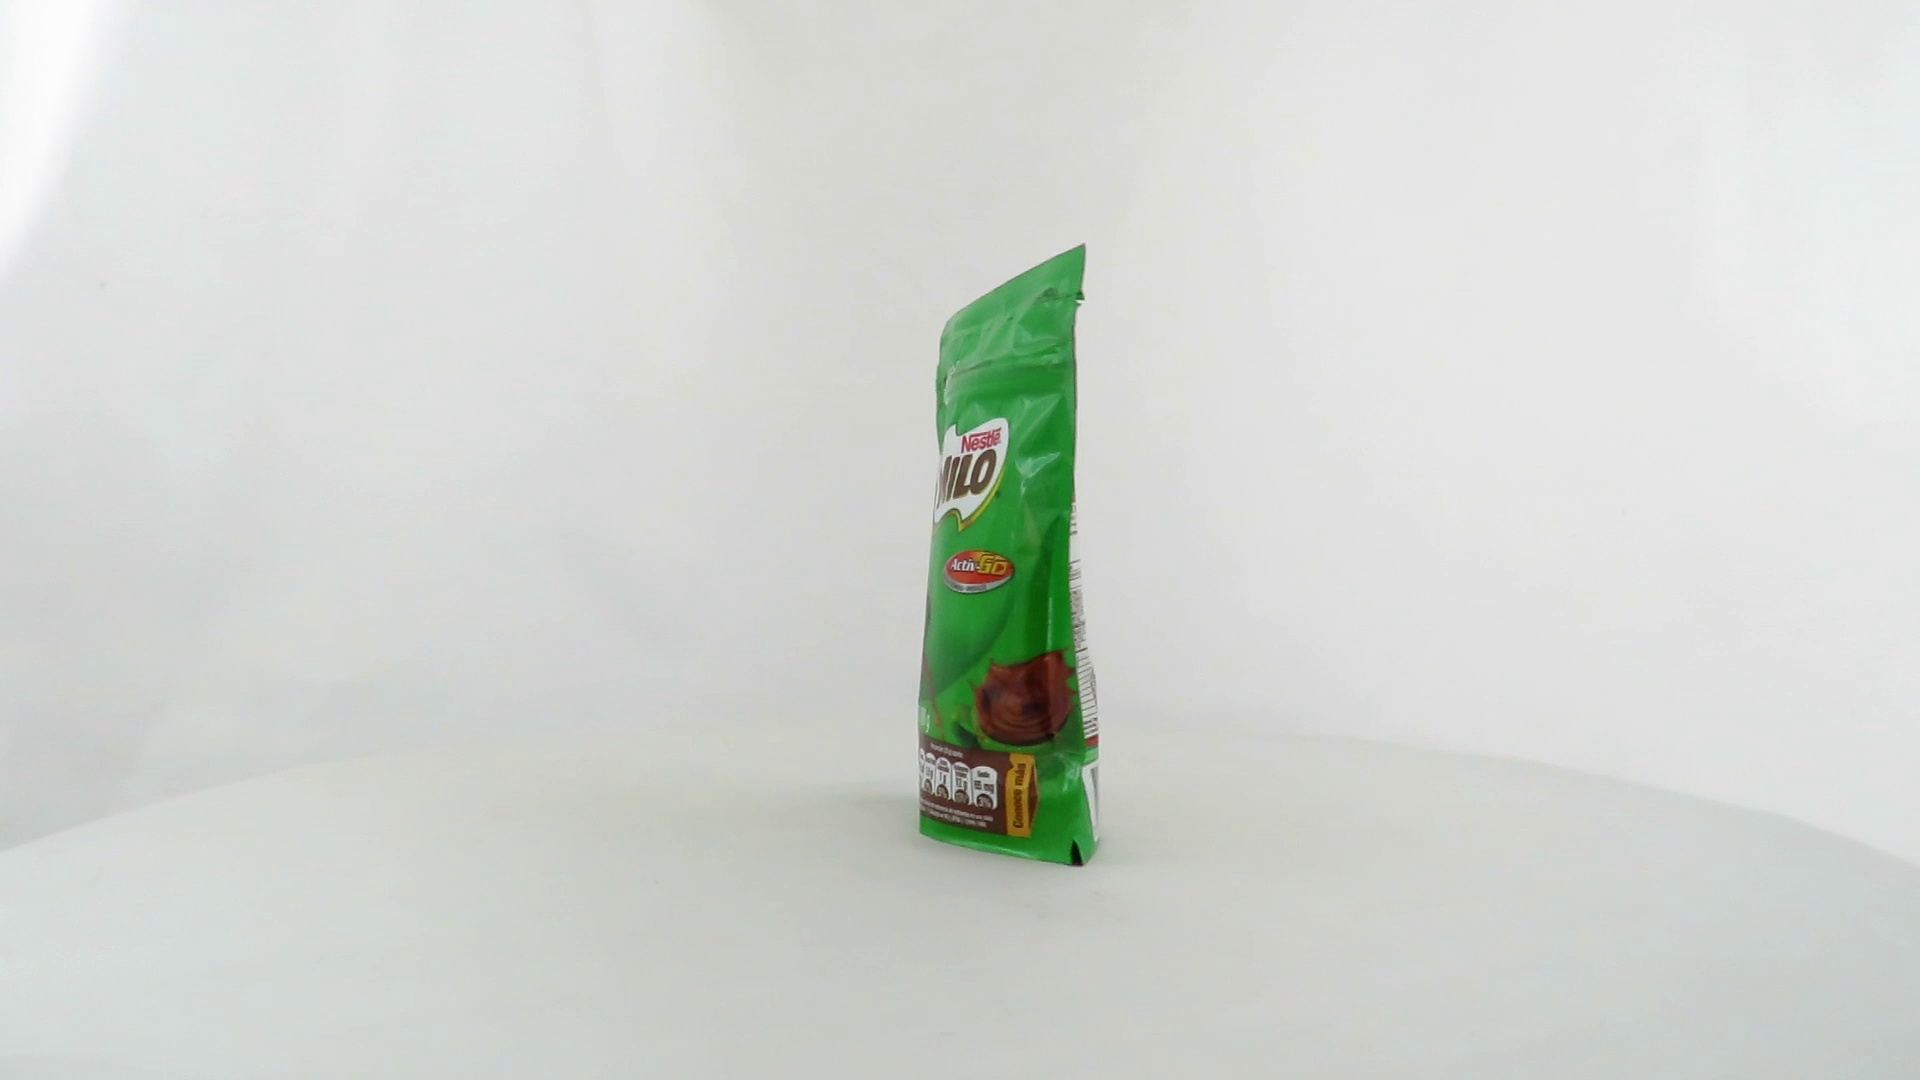COL0170203DYP10000: (862, 237, 1116, 873)
